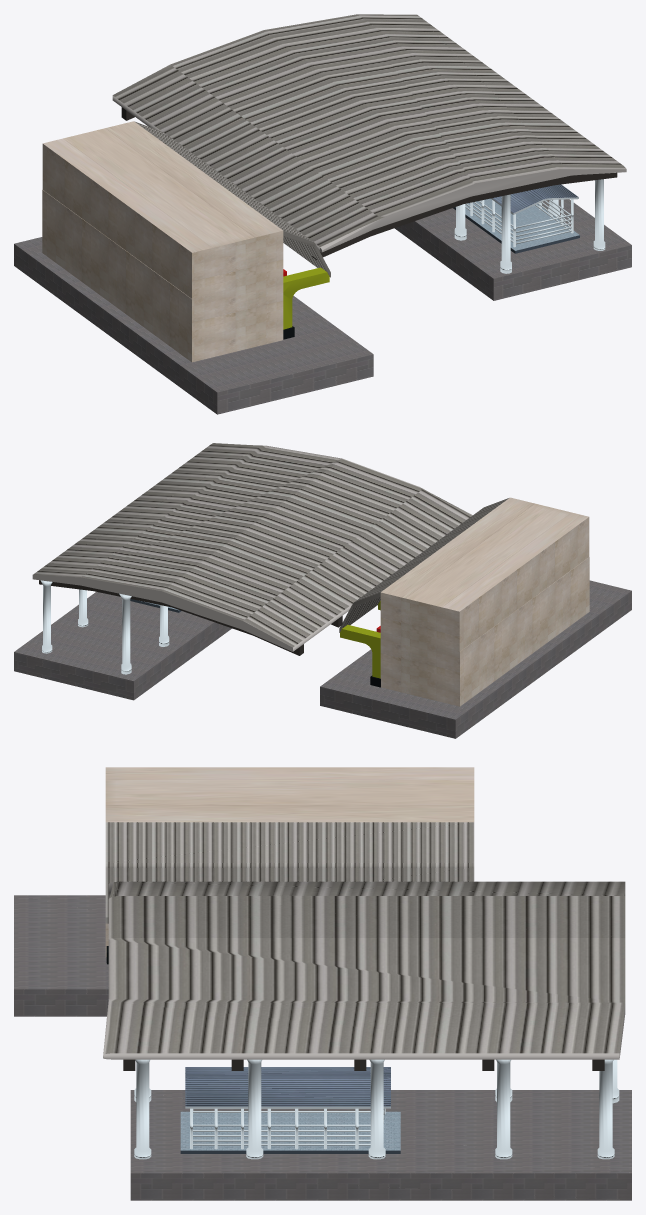
File: Railway_Station.glb
The picture shows the model from 3 angles, top to bottom: view 1: azimuth 30°, elevation 25°; view 2: azimuth 150°, elevation 25°; view 3: azimuth 270°, elevation 25°; orthographic projection. The views are drawn at different scales.
Parts seen in each view (by area): view 1: Railway station_Material.024_0, Railway station_Material.030_0, Railway station_Material.023_0, Railway station_Material.026_0, Railway station_Material.031_0, Railway station_Material.034_0, Railway station_Material.028_0, Railway station_Material.035_0; view 2: Railway station_Material.024_0, Railway station_Material.030_0, Railway station_Material.023_0, Railway station_Material.026_0, Railway station_Material.031_0, Railway station_Material.028_0; view 3: Railway station_Material.024_0, Railway station_Material.023_0, Railway station_Material.031_0, Railway station_Material.030_0, Railway station_Material.026_0, Railway station_Material.035_0, Railway station_Material.034_0, Railway station_Material.019_0.
Part boxes in pixels (x1,y1,x2,y2): Railway station_Material.024_0: (112, 14, 626, 259); Railway station_Material.030_0: (42, 121, 283, 362); Railway station_Material.023_0: (14, 199, 631, 414); Railway station_Material.026_0: (454, 179, 605, 273); Railway station_Material.031_0: (134, 121, 330, 277); Railway station_Material.034_0: (455, 198, 579, 250); Railway station_Material.028_0: (283, 267, 329, 329); Railway station_Material.035_0: (493, 184, 578, 213); Railway station_Material.024_0: (32, 443, 472, 655); Railway station_Material.030_0: (380, 497, 589, 706); Railway station_Material.023_0: (14, 580, 631, 738); Railway station_Material.026_0: (40, 580, 169, 674); Railway station_Material.031_0: (339, 498, 508, 632); Railway station_Material.028_0: (340, 601, 380, 678); Railway station_Material.024_0: (103, 881, 625, 1070); Railway station_Material.023_0: (14, 895, 631, 1200); Railway station_Material.031_0: (105, 822, 474, 923); Railway station_Material.030_0: (105, 767, 474, 957); Railway station_Material.026_0: (134, 1059, 619, 1159); Railway station_Material.035_0: (185, 1067, 390, 1106); Railway station_Material.034_0: (180, 1111, 400, 1150); Railway station_Material.019_0: (180, 1150, 400, 1153).
Bounding box in the file's own units: 63.14 × 17.19 × 59.33.
Materials: 12 (12 with a texture image).
